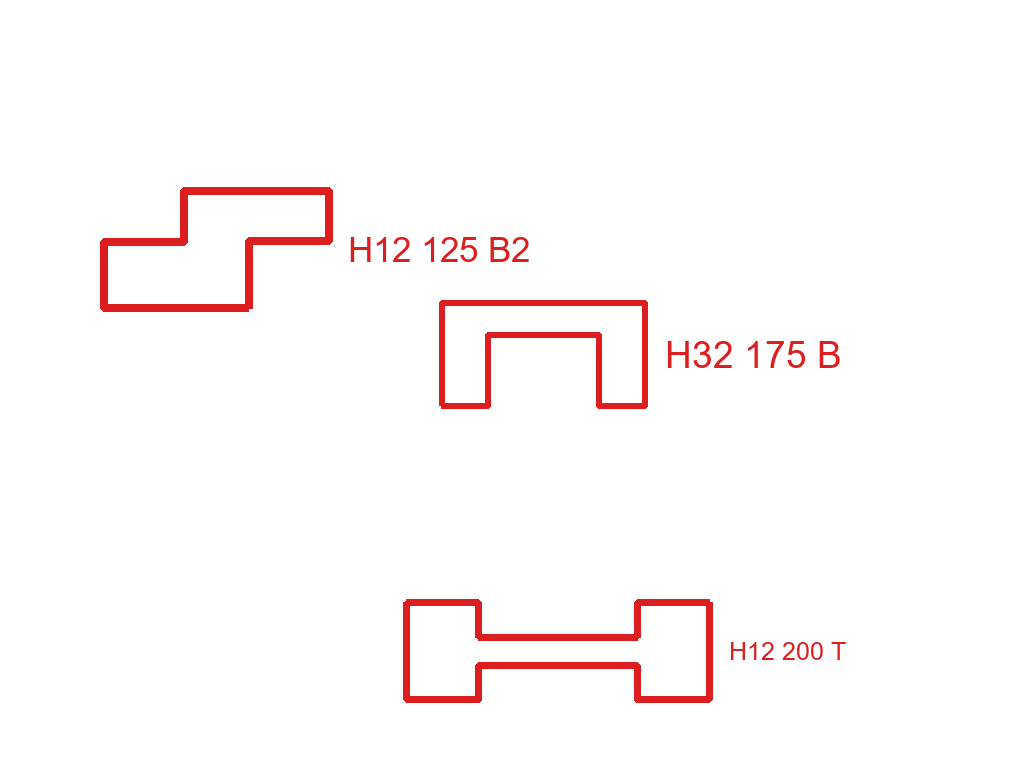shape: (401, 597, 715, 705), (98, 185, 334, 315), (437, 298, 650, 411)
text: (663, 339, 844, 370), (346, 235, 532, 264), (727, 640, 848, 662)
